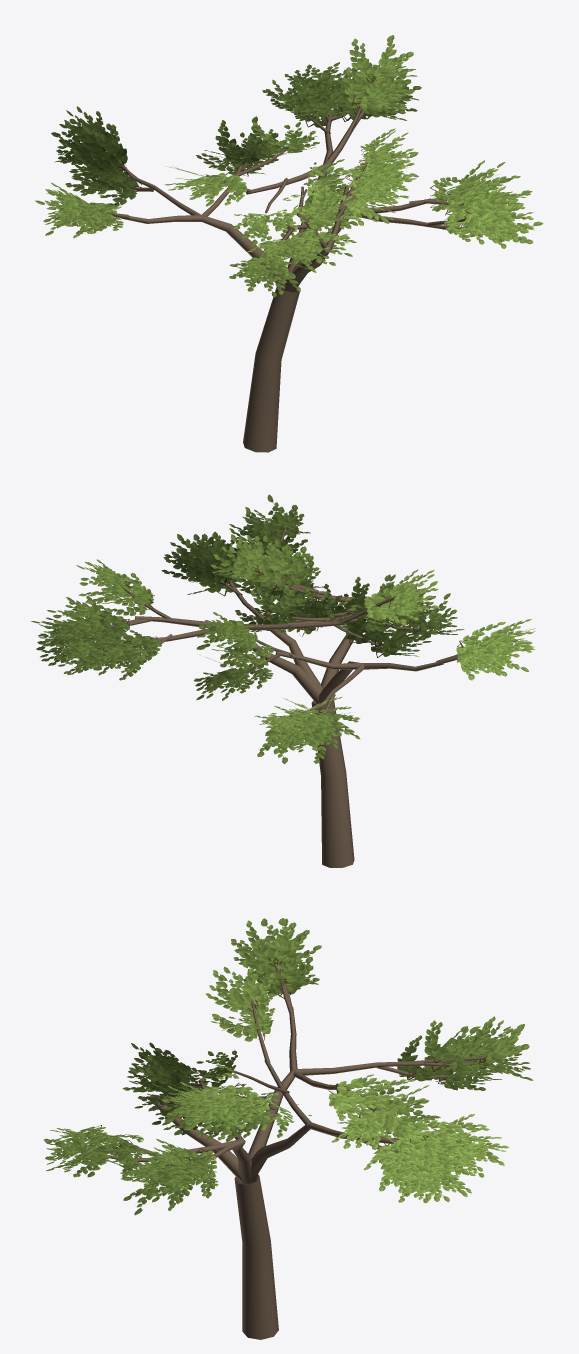
File: acacia_1.glb
3 renders of one model, top to bottom at view 1: azimuth 30°, elevation 25°; view 2: azimuth 150°, elevation 25°; view 3: azimuth 270°, elevation 25°, orthographic. The views are drawn at different scales.
Visible parts, largest first — view 1: acacia_1; view 2: acacia_1; view 3: acacia_1.
Boxes of the visible parts, x1=… form: acacia_1: x1=35, y1=35, x2=543, y2=452; acacia_1: x1=31, y1=494, x2=535, y2=867; acacia_1: x1=43, y1=918, x2=533, y2=1339.
Bounding box in the file's own units: 10.46 × 6.51 × 9.64.
2 materials, 1 textured.
